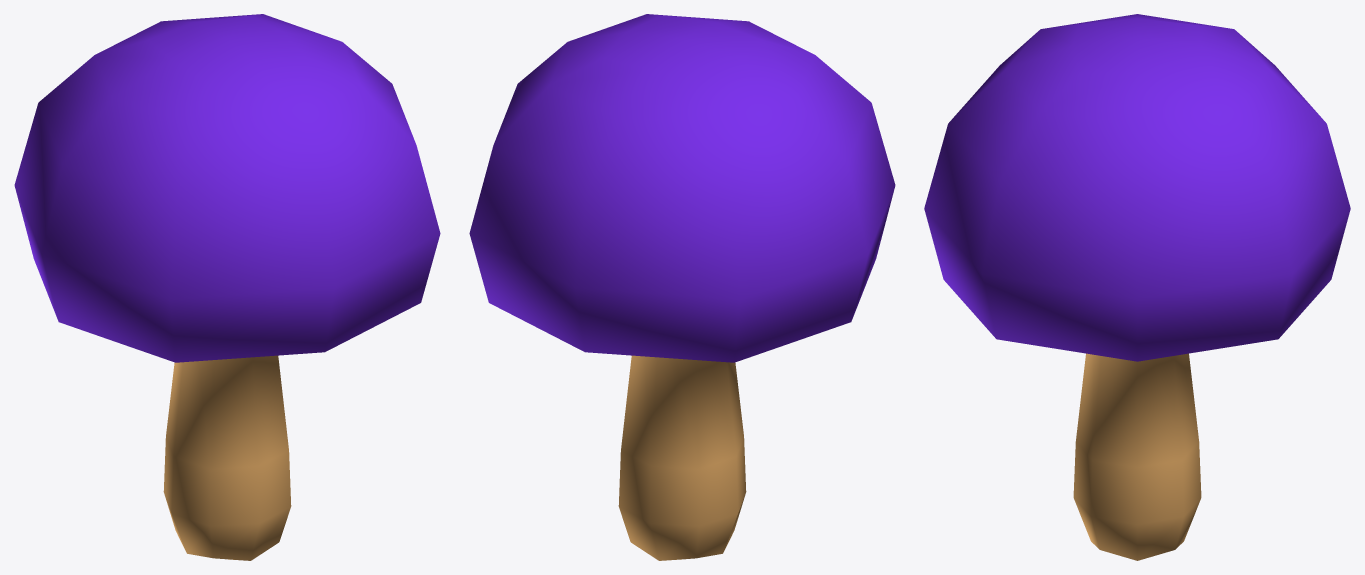
File: ast_prop_shroom3.fbx
The picture shows the model from 3 angles, left to right: view 1: azimuth 30°, elevation 25°; view 2: azimuth 150°, elevation 25°; view 3: azimuth 270°, elevation 25°; orthographic projection.
Visible parts, largest first — view 1: Plane.002; view 2: Plane.002; view 3: Plane.002.
Boxes of the visible parts, x1,y1,x2,y2 form: Plane.002: [14, 14, 440, 560]; Plane.002: [469, 14, 895, 560]; Plane.002: [924, 14, 1350, 560].
Bounding box in the file's own units: 1.24 × 1.24 × 1.66.
